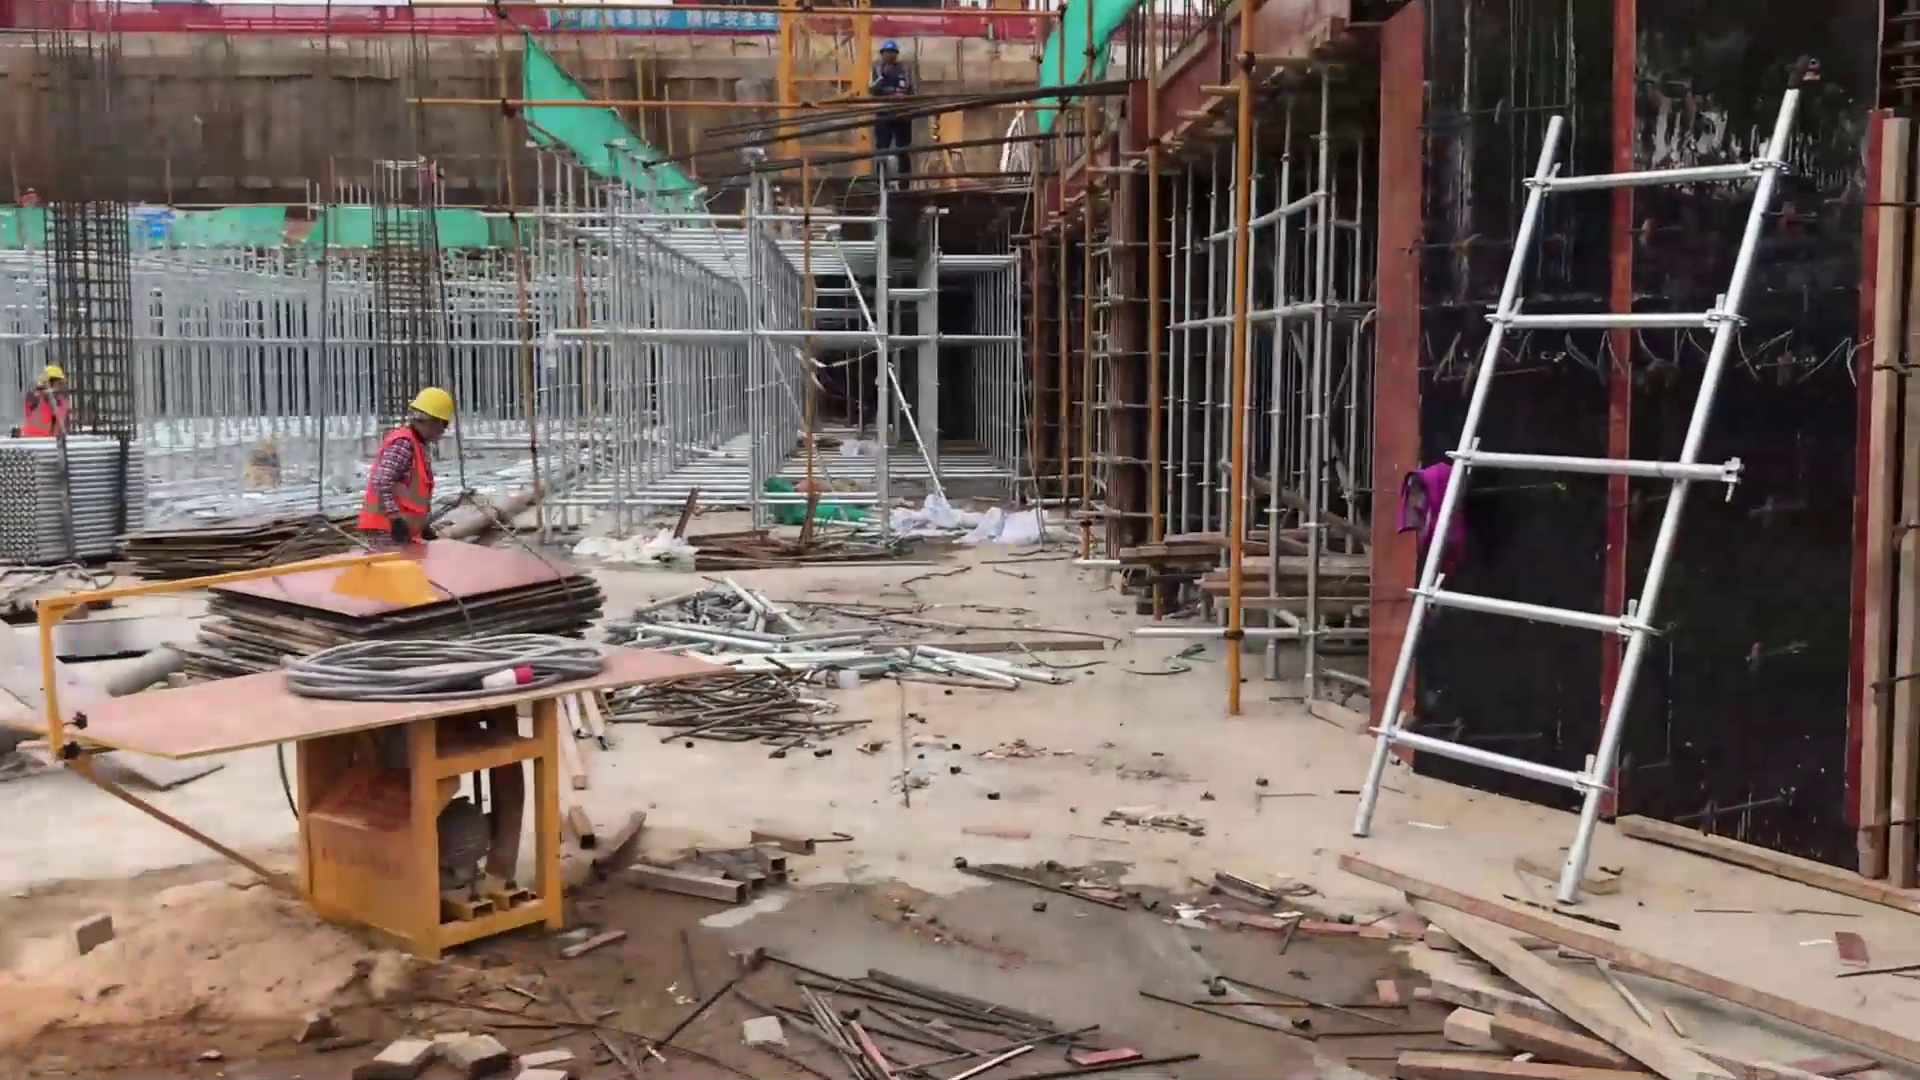board: (189, 529, 615, 654), (116, 498, 318, 577)
helmet: (399, 378, 461, 428)
person: (361, 381, 454, 561), (869, 34, 918, 193), (20, 363, 70, 443)
scaffold: (1, 434, 147, 563)
slogan: (544, 4, 780, 36)
vest: (361, 432, 429, 541), (21, 391, 69, 434)
